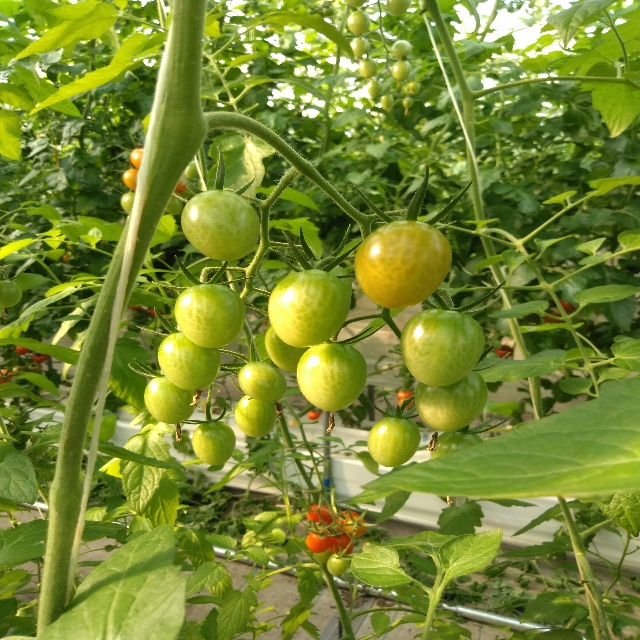l_fully_ripened: (305, 529, 333, 553), (329, 533, 354, 555)
l_green: (268, 270, 352, 349), (401, 309, 484, 387), (180, 188, 259, 262), (297, 342, 367, 413), (413, 369, 488, 432), (174, 284, 247, 348), (158, 331, 219, 390), (367, 416, 422, 468), (144, 375, 199, 425), (287, 259, 353, 299), (264, 324, 308, 373), (237, 361, 287, 403), (191, 419, 236, 465), (235, 394, 278, 438), (430, 430, 484, 460), (327, 553, 349, 575)
l_half_ripened: (352, 220, 452, 310), (343, 516, 367, 538)
